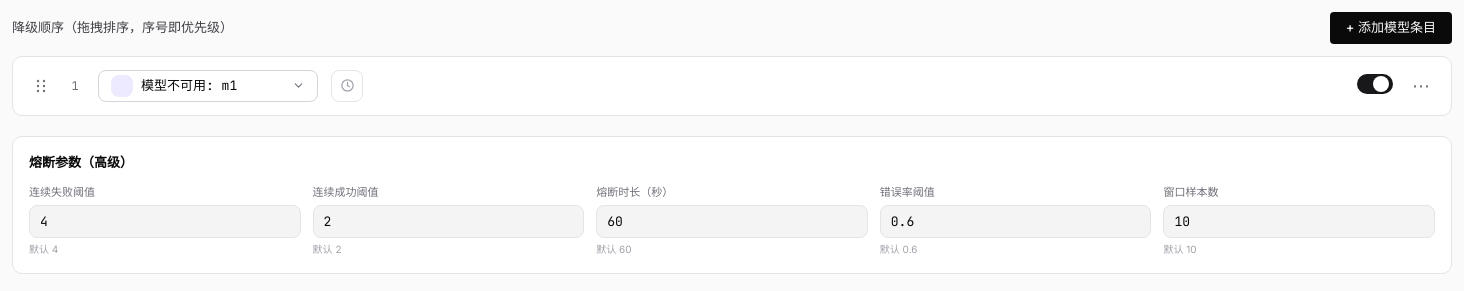
Test: ModelRoutingPlanEditor — 时间弹层（决策⑫） › 点时钟开弹层（真 HourGridPicker）→ 拖 1→3 + 确定 → 写回 + 弹层关
Click the button with test id "plan-editor-item-time": (347, 86) x1=331 y1=70 x2=363 y2=102
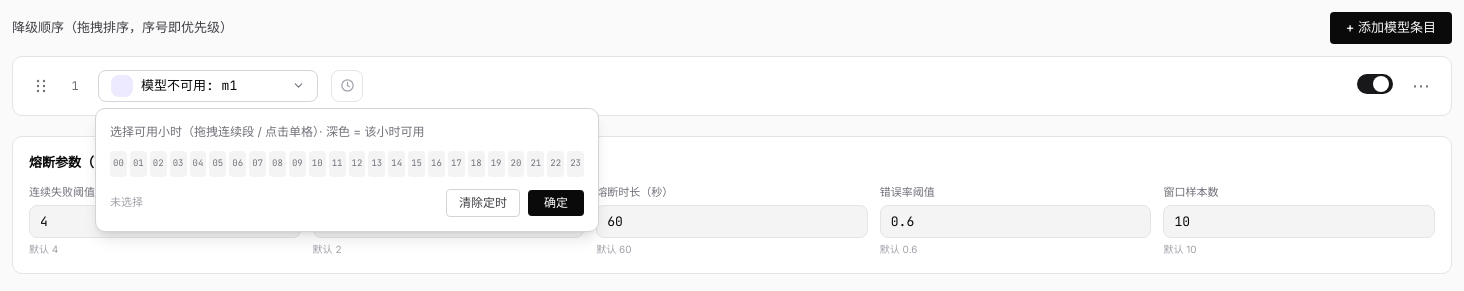
expect the element with test id "time-popover" is shown: met, box x1=95 y1=108 x2=599 y2=232
Press the mouse on the cell with test id "hour-cell-1": (138, 164) x1=130 y1=150 x2=147 y2=176
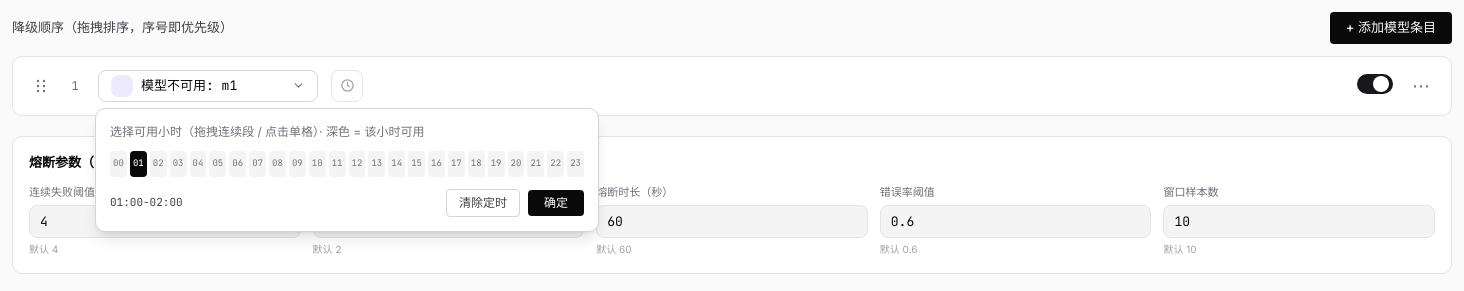
Hover over the cell with test id "hour-cell-3": (178, 164) x1=170 y1=150 x2=186 y2=176
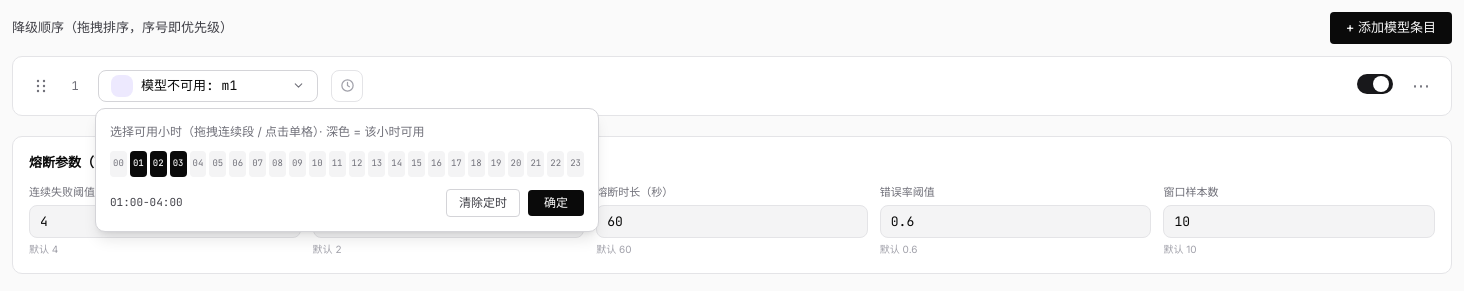
Click the button with test id "hour-grid-confirm": (556, 202) x1=528 y1=190 x2=584 y2=216
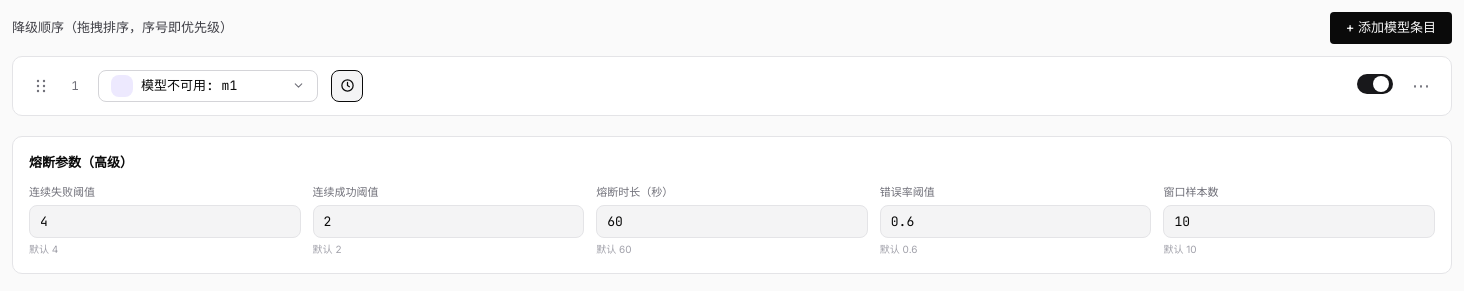
expect the element with test id "time-popover" is gone: met
